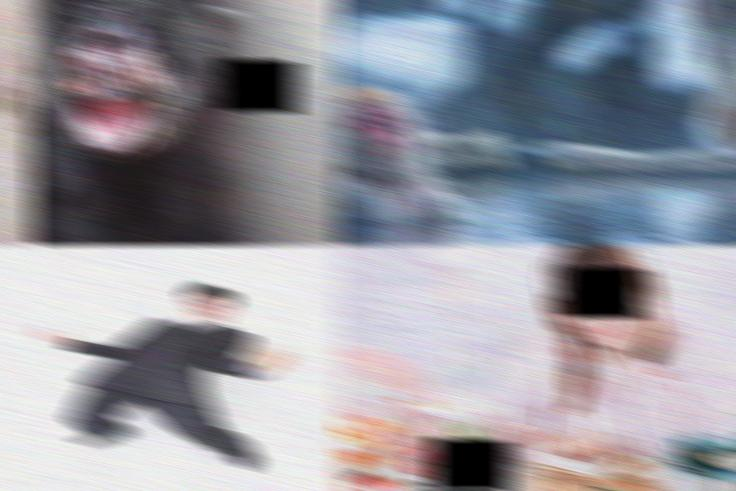Macaca fuscata: (333, 88, 472, 240), (679, 0, 736, 173)
chimpanzee: (0, 0, 343, 246)
human: (466, 244, 736, 462), (30, 282, 277, 471)
